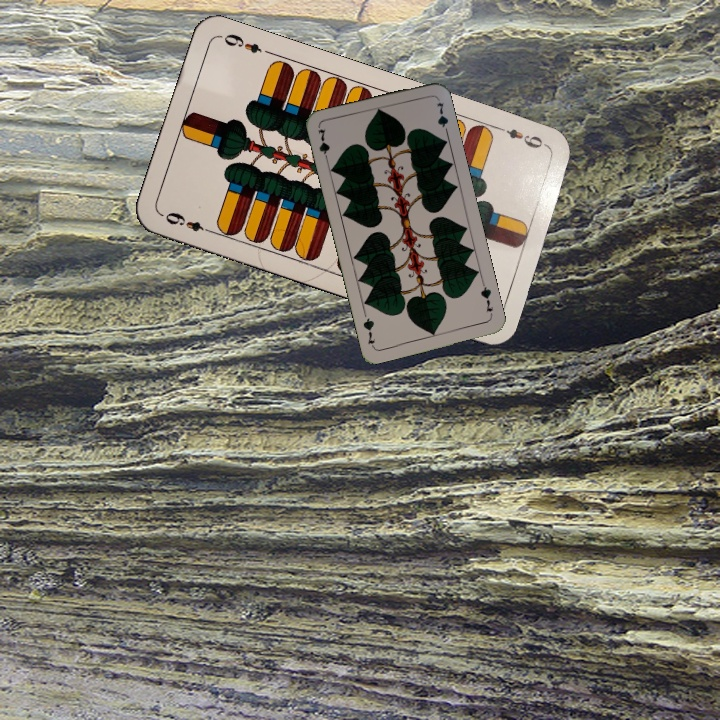E9: (493, 122, 550, 151), (158, 208, 216, 236)
G7: (314, 125, 332, 165), (476, 279, 495, 315)
